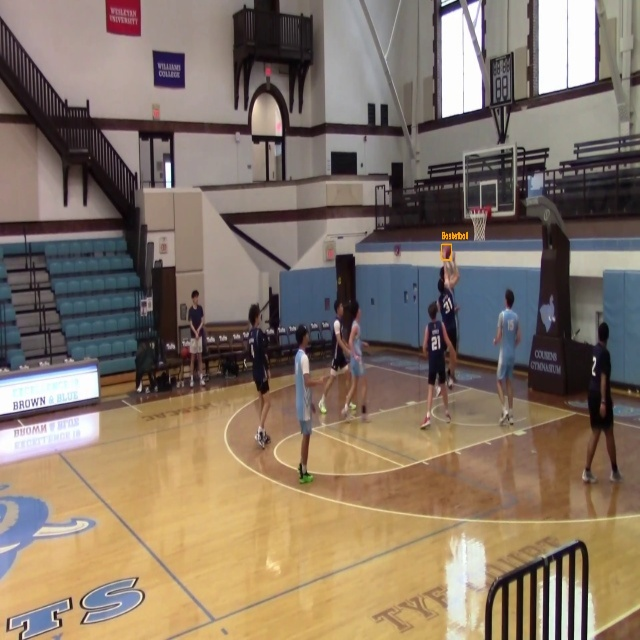Basketball: (442, 244, 451, 260)
